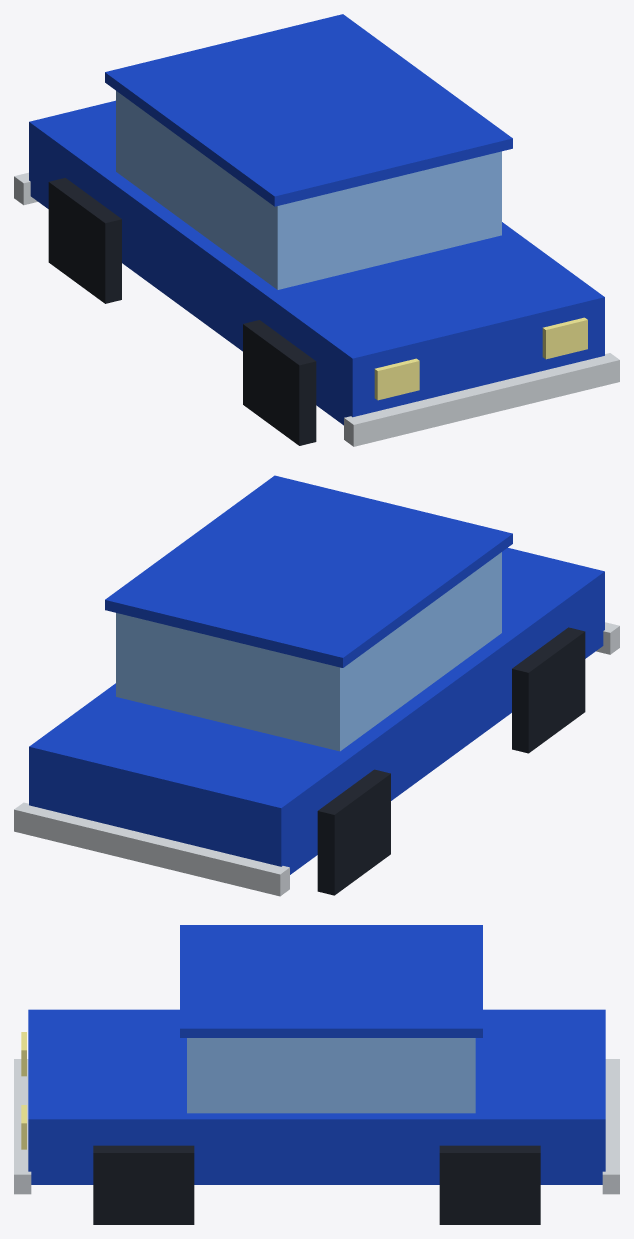
File: car_zhiguli.obj
3 renders of one model, top to bottom at view 1: azimuth 30°, elevation 25°; view 2: azimuth 150°, elevation 25°; view 3: azimuth 270°, elevation 25°, orthographic. The views are drawn at different scales.
Bounding box in the file's own units: 2.04 × 1.42 × 4.2.
